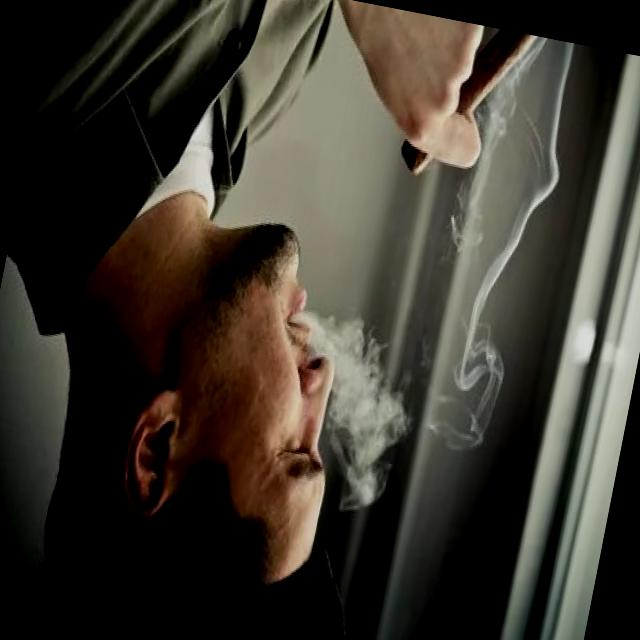cigarette: (397, 15, 547, 197)
